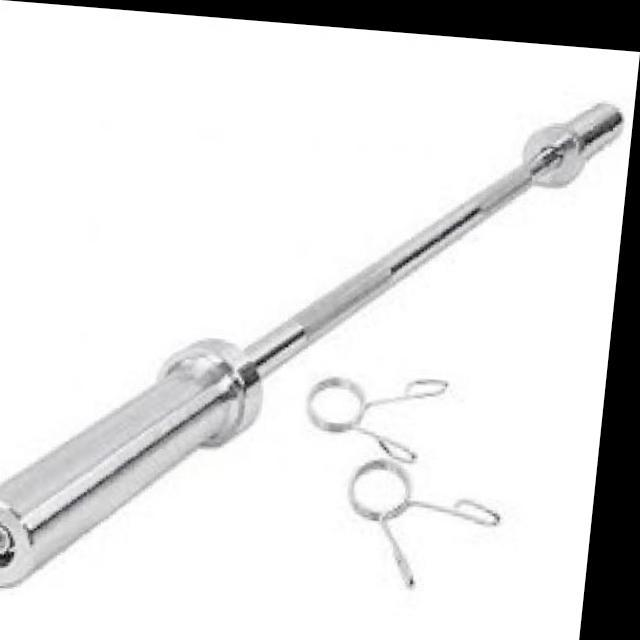barbell: (1, 308, 284, 609)
